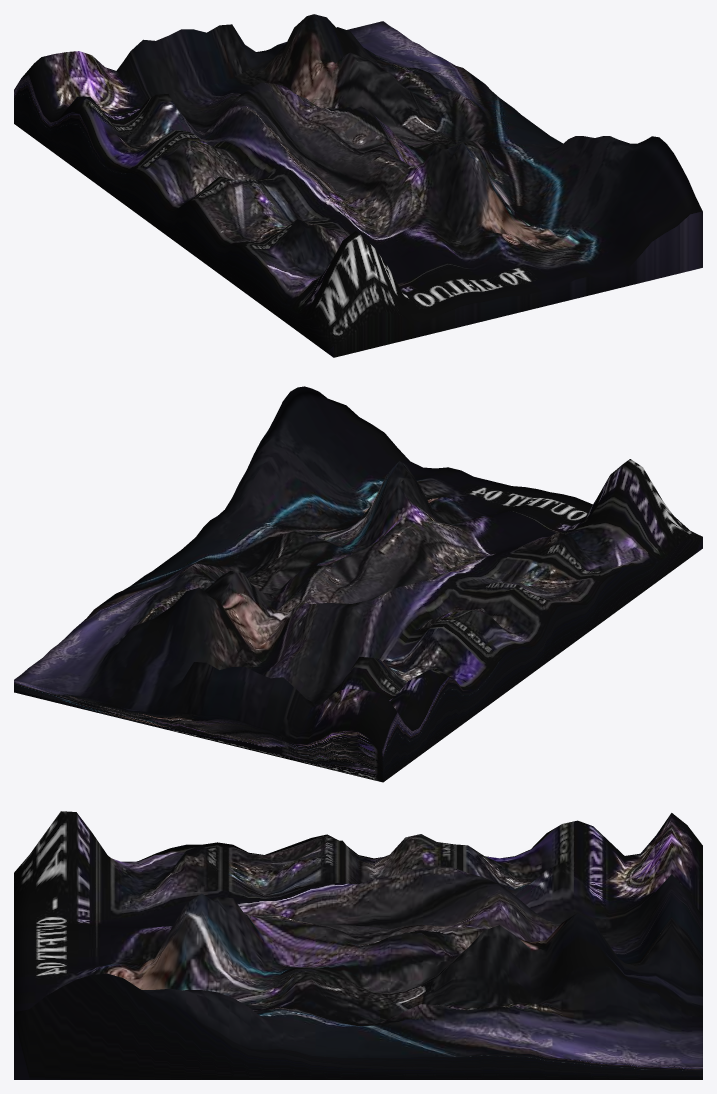
Rendered from CAREER_14_Outfit_04_Master.glb.
3 renders of one model, top to bottom at view 1: azimuth 30°, elevation 25°; view 2: azimuth 150°, elevation 25°; view 3: azimuth 270°, elevation 25°, orthographic. The views are drawn at different scales.
Visible parts, largest first — view 1: CAREER_14_Outfit_04_Master; view 2: CAREER_14_Outfit_04_Master; view 3: CAREER_14_Outfit_04_Master.
Boxes of the visible parts, x1,y1,x2,y2 form: CAREER_14_Outfit_04_Master: (14,14,702,357); CAREER_14_Outfit_04_Master: (14,386,702,782); CAREER_14_Outfit_04_Master: (14,811,702,1079).
Bounding box in the file's own units: 2 × 0.51 × 3.
1 material, 1 textured.
